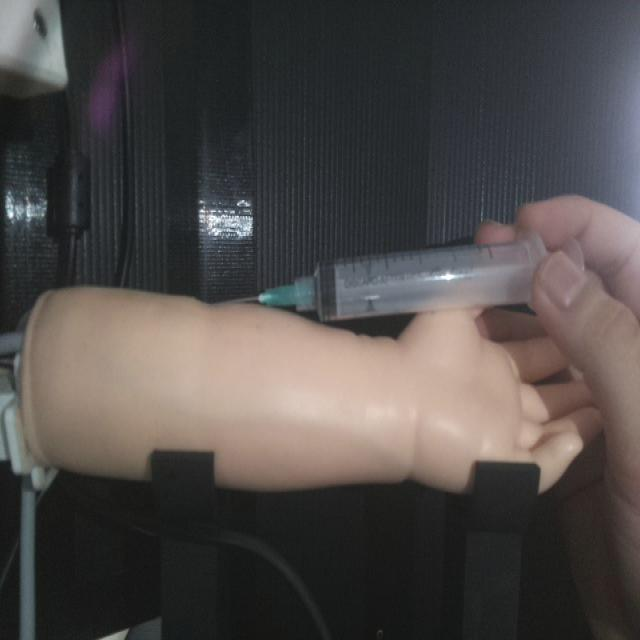Below 15 degrees: (229, 227, 585, 324)
